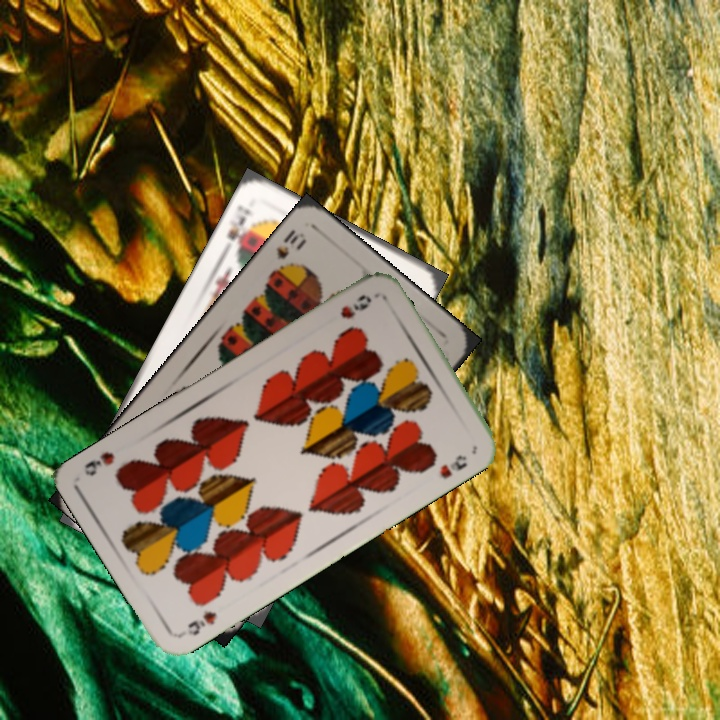H9: (336, 290, 374, 322), (183, 606, 219, 639)
S10: (272, 225, 310, 263)
SK: (222, 200, 256, 257)
